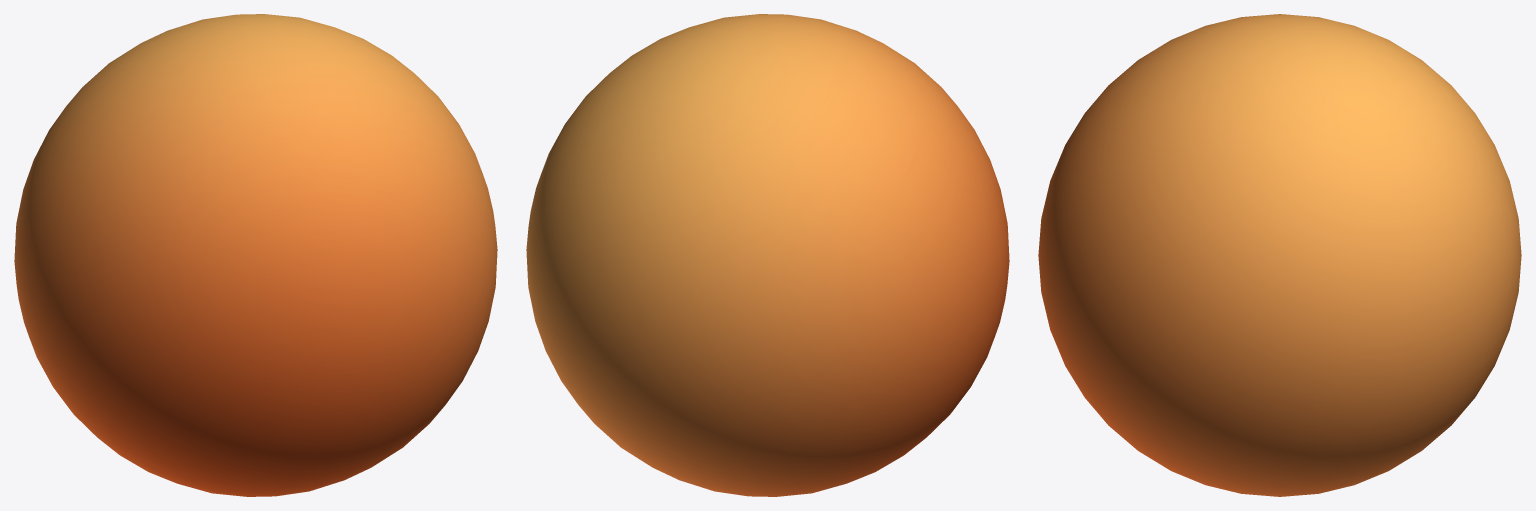
File: mech_energy_shield.glb
3 renders of one model, left to right at view 1: azimuth 30°, elevation 25°; view 2: azimuth 150°, elevation 25°; view 3: azimuth 270°, elevation 25°, orthographic.
Visible parts, largest first — view 1: EnergyShield; view 2: EnergyShield; view 3: EnergyShield.
Boxes of the visible parts, bbox=[...] form: EnergyShield: bbox=[14, 14, 497, 496]; EnergyShield: bbox=[526, 14, 1009, 496]; EnergyShield: bbox=[1038, 14, 1521, 496].
Bounding box in the file's own units: 14 × 14 × 14.
Materials: 1 (1 with a texture image).
